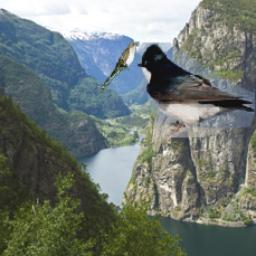Cuckoo: (97, 40, 140, 94)
Swallow: (139, 44, 256, 139)
